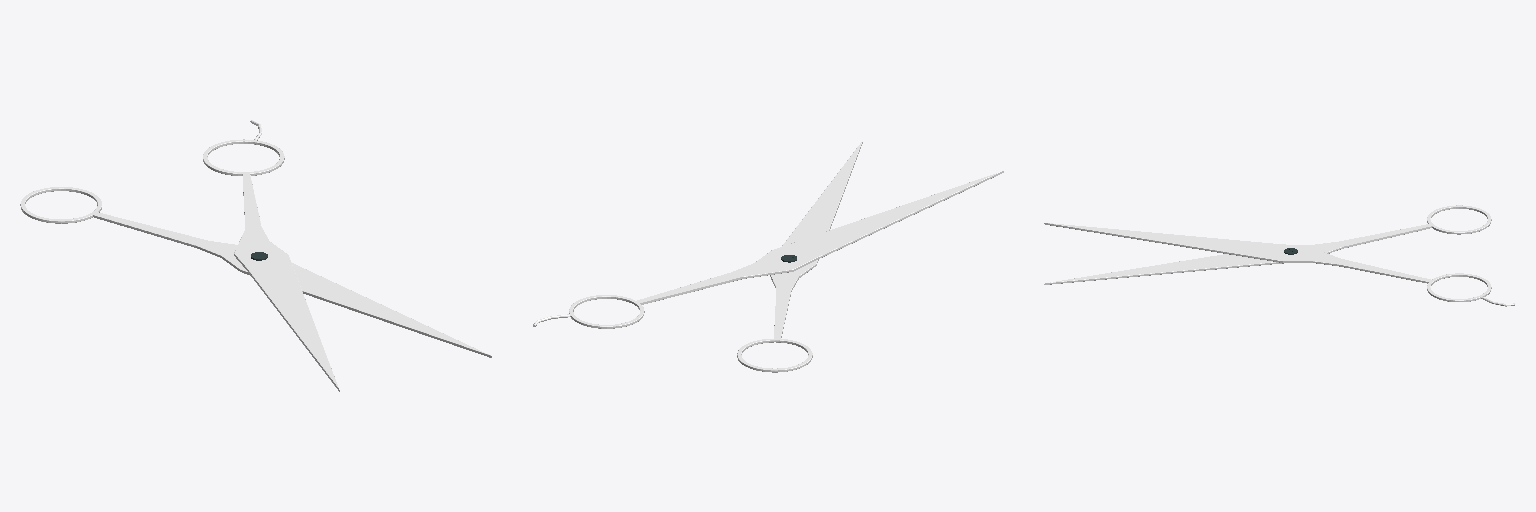
URDF robot description (object_10449):
<?xml version='1.0' encoding='utf-8'?>
<robot name="object_10449">
  <link name="fixed_root">
    <visual name="lower_half">
      <origin xyz="0 0 0" rpy="0 0 0" />
      <geometry>
        <mesh filename="meshes/mesh_000.obj" scale="1 1 1" />
      </geometry>
      <material name="mesh_000_material">
        <color rgba="1 1 1 1" />
        <texture filename="textures/mesh_000_basecolor.png" />
      </material>
    </visual>
    <visual name="pivot_fastener">
      <origin xyz="0 0 0" rpy="0 0 0" />
      <geometry>
        <mesh filename="meshes/mesh_001.obj" scale="1 1 1" />
      </geometry>
      <material name="mesh_001_material">
        <color rgba="0.25 0.3100000023841858 0.3199999928474426 1.0" />
      </material>
    </visual>
  </link>
  <link name="link_scissor_pivot">
    <visual name="upper_half">
      <origin xyz="0 0 0" rpy="0 0 0" />
      <geometry>
        <mesh filename="meshes/mesh_002.obj" scale="1 1 1" />
      </geometry>
      <material name="mesh_002_material">
        <color rgba="1 1 1 1" />
        <texture filename="textures/mesh_002_basecolor.png" />
      </material>
    </visual>
  </link>
  <joint name="scissor_pivot" type="revolute">
    <parent link="fixed_root" />
    <child link="link_scissor_pivot" />
    <origin xyz="-1.73472347598e-18 -0.0149999996647 0.0077999997884" rpy="0 0 0" />
    <axis xyz="0 0 1" />
    <limit lower="-0.3490658503988659" upper="0.3490658503988659" effort="0" velocity="0" />
  </joint>
</robot>

--- Facts derived from the render (not from the file) ---
Views: 3 orthographic renders of the robot side by side, from view 1: azimuth 30°, elevation 25°; view 2: azimuth 150°, elevation 25°; view 3: azimuth 270°, elevation 25°.
Model object_10449 with 2 links and 1 joints (1 revolute), rooted at fixed_root, posed every joint at zero.
Visible links, largest first — view 1: link_scissor_pivot, fixed_root; view 2: link_scissor_pivot, fixed_root; view 3: link_scissor_pivot, fixed_root.
Boxes of the visible links, bbox=[...] form: link_scissor_pivot: bbox=[203, 120, 339, 391]; fixed_root: bbox=[20, 187, 491, 357]; link_scissor_pivot: bbox=[533, 171, 1003, 328]; fixed_root: bbox=[737, 141, 862, 372]; link_scissor_pivot: bbox=[1044, 223, 1514, 306]; fixed_root: bbox=[1044, 205, 1491, 284].
Size in the robot's own frame: 0.522 by 1.02 by 0.0127 metres.
3 mesh visuals loaded from 3 distinct referenced files (3 OBJ).
